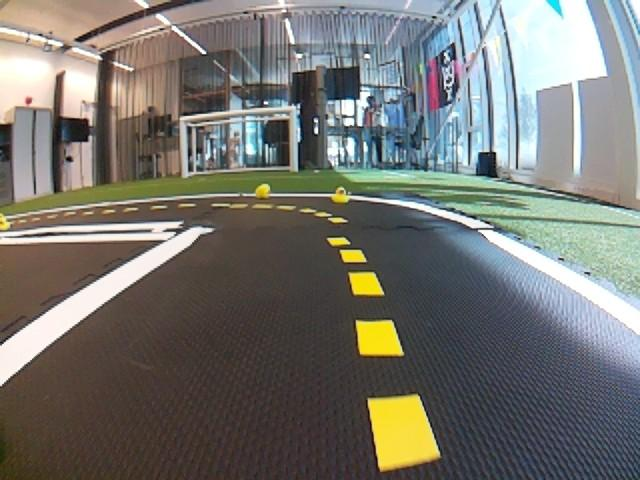Duckies: (330, 187, 349, 203), (255, 184, 271, 198), (0, 214, 10, 231)
